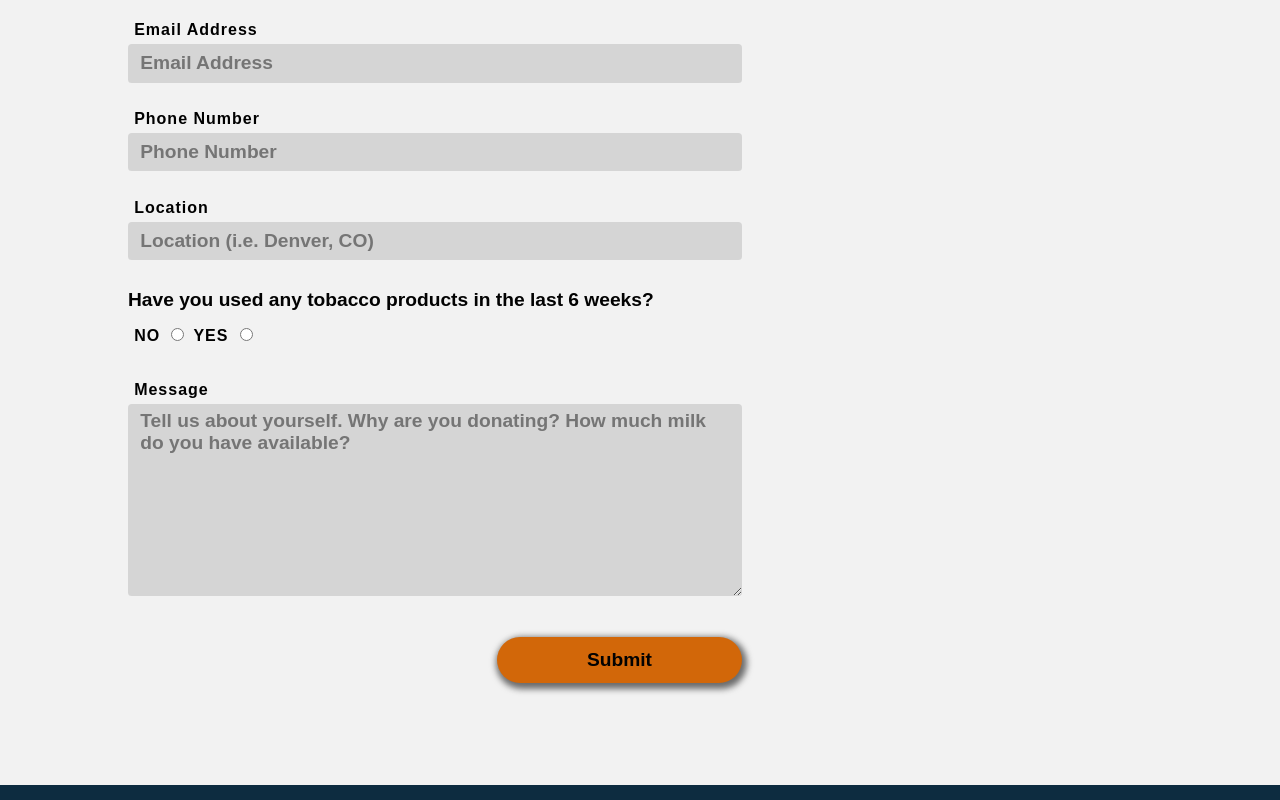
Test: Donate milk form user flow › Should get error messages on empty input submits
(page scrolled)
Click the button with test id "donate-submit-button": (620, 660) [497,636,743,683]
(page scrolled)
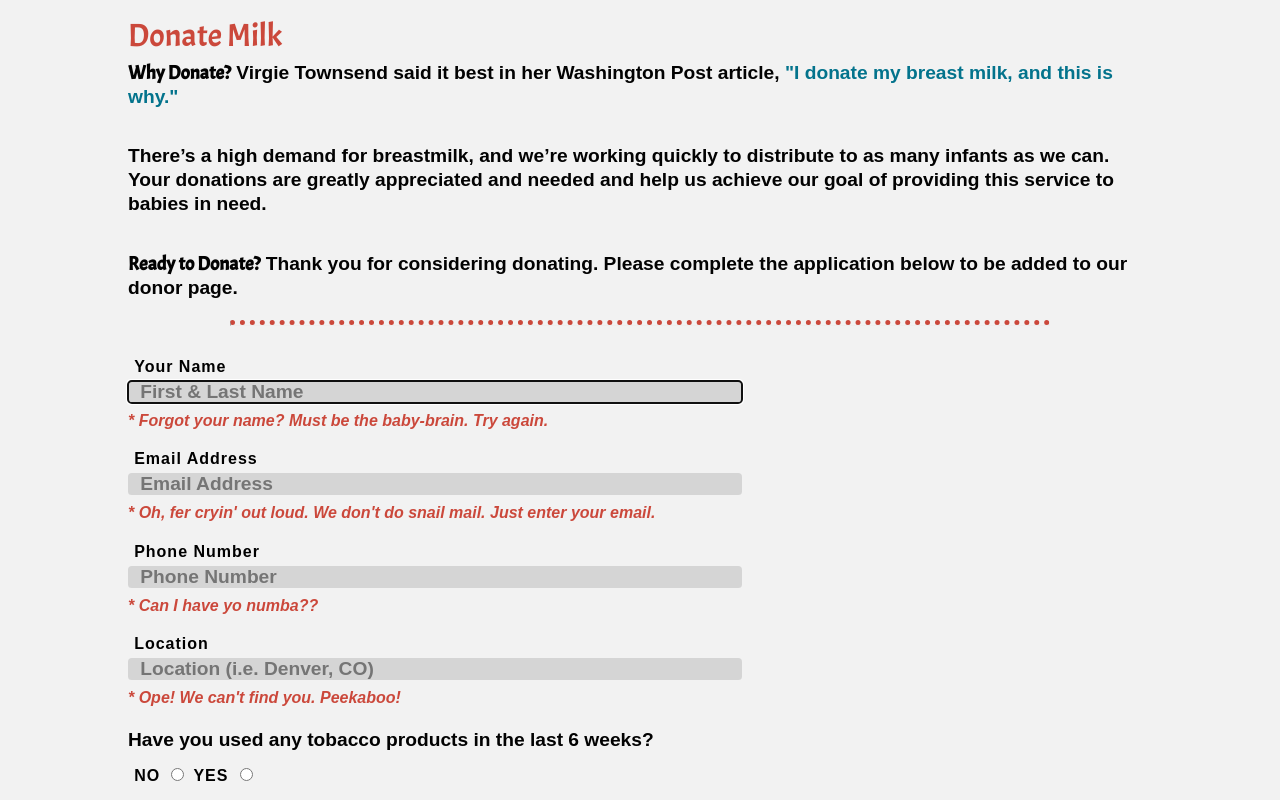
Now the text "* Forgot your name? Must be the baby-brain. Try again." is shown, box [128,412,548,429]
Now the text with test id "donor-email-error" is shown, box [128,503,742,523]
Now the text "* Can I have yo numba??" is shown, box [128,597,318,614]
